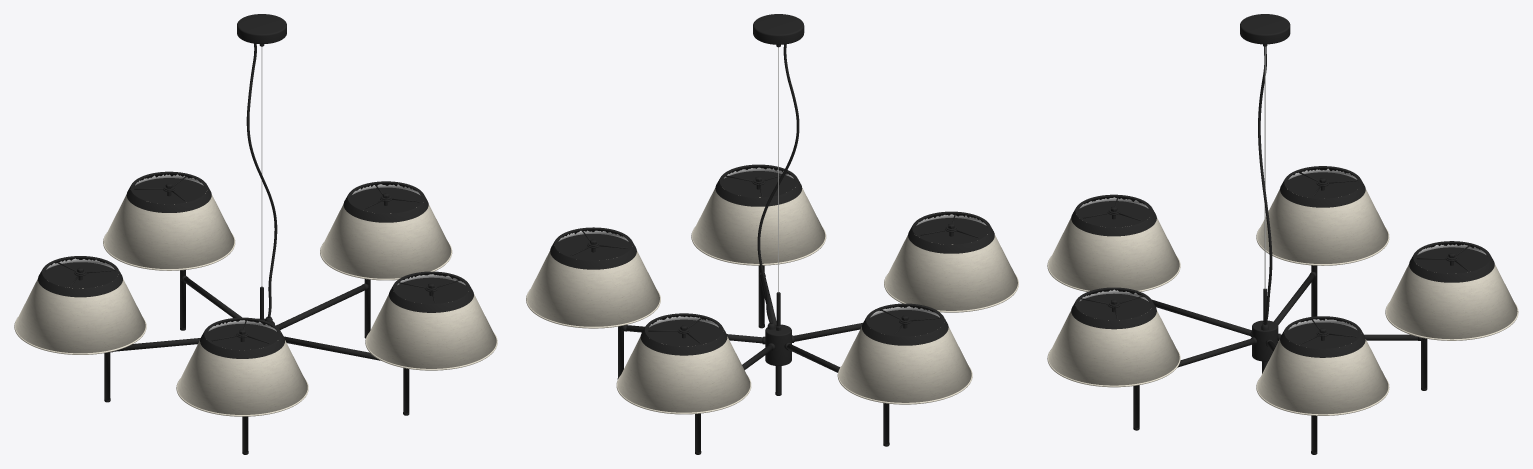
3 renders of one model, left to right at view 1: azimuth 30°, elevation 25°; view 2: azimuth 150°, elevation 25°; view 3: azimuth 270°, elevation 25°, orthographic.
Visible parts, largest first — view 1: fabric, metal, cable, liner; view 2: fabric, metal, cable, liner; view 3: fabric, metal, cable, liner.
Boxes of the visible parts, left/top/right/bottom form: fabric: left=14, top=193, right=497, bottom=416; metal: left=38, top=14, right=473, bottom=454; cable: left=246, top=43, right=277, bottom=317; liner: left=46, top=174, right=465, bottom=331; fabric: left=526, top=187, right=1018, bottom=414; metal: left=550, top=14, right=994, bottom=454; cable: left=757, top=44, right=799, bottom=323; liner: left=558, top=167, right=986, bottom=327; fabric: left=1047, top=189, right=1518, bottom=415; metal: left=1071, top=14, right=1494, bottom=454; cable: left=1258, top=46, right=1272, bottom=324; liner: left=1079, top=168, right=1486, bottom=329.
Bounding box in the file's own units: 0.9678 × 0.8 × 0.9333.
Materials: 5 (5 with a texture image).
